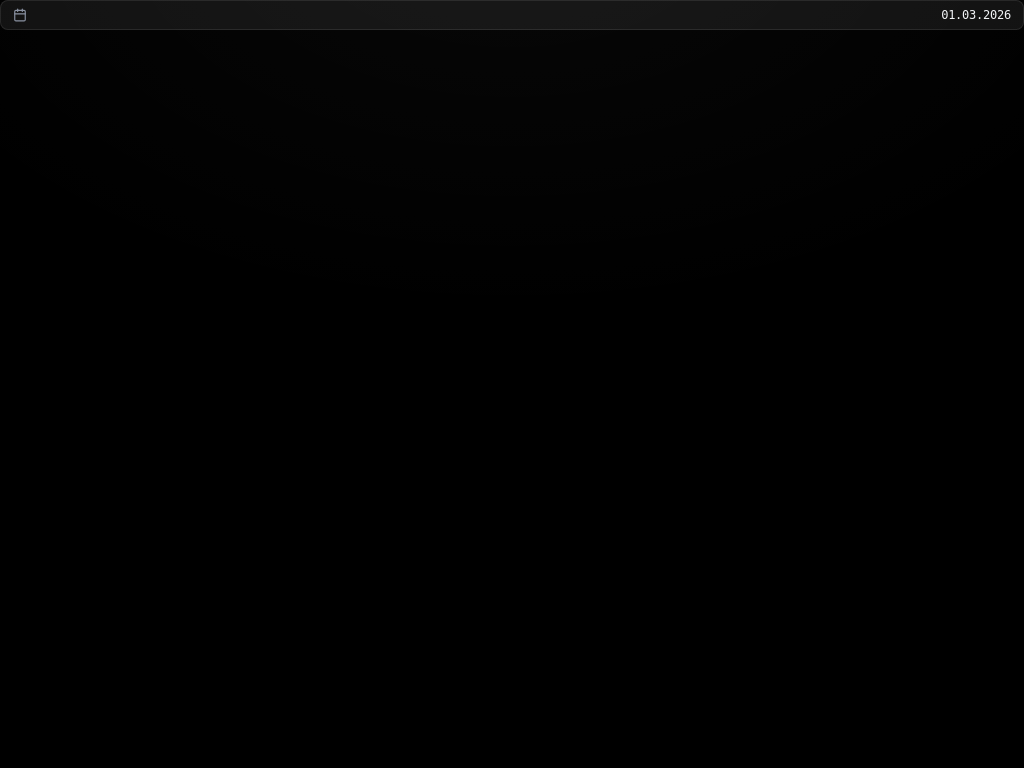
Test: DateField › selects a day as YYYY-MM-DD and can clear it
Later steps or results of the test are not shown.
Click the button with id "from": (976, 15) [0, 0, 1023, 30]
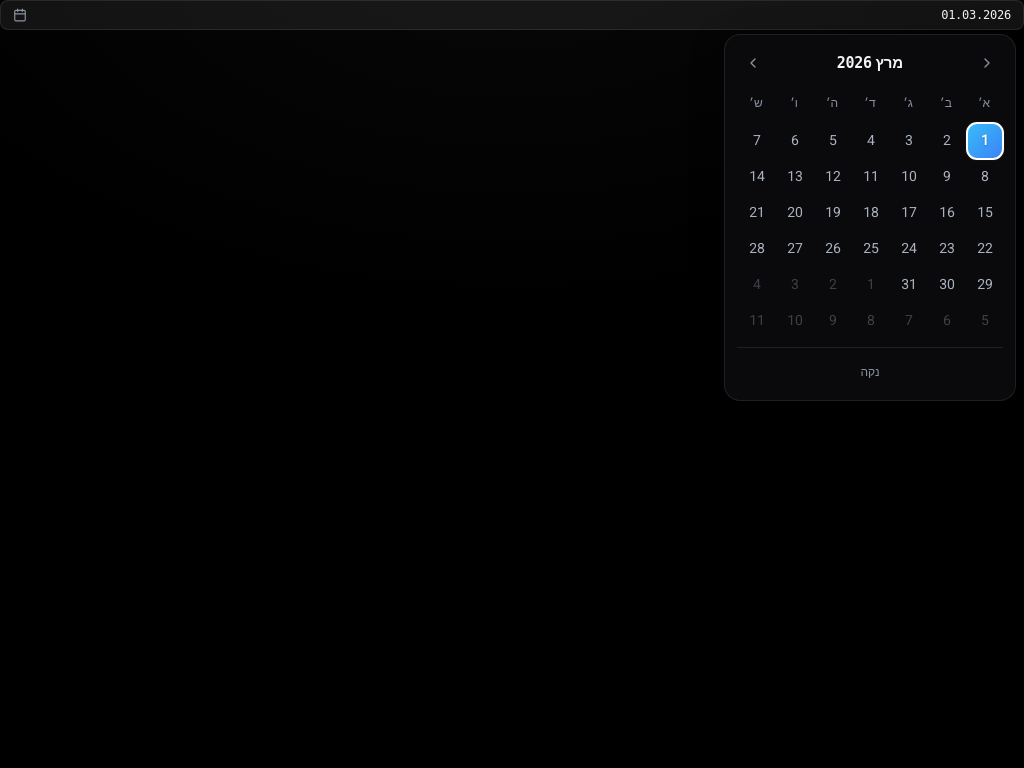
Result: the dialog is shown at [724, 34, 1016, 401]
Result: the dialog shows "מרץ" at [875, 52, 903, 74]
Result: the dialog shows "2026" at [837, 54, 872, 72]
Click the cell named "15 במרץ 2026": (985, 213) [967, 195, 1003, 231]
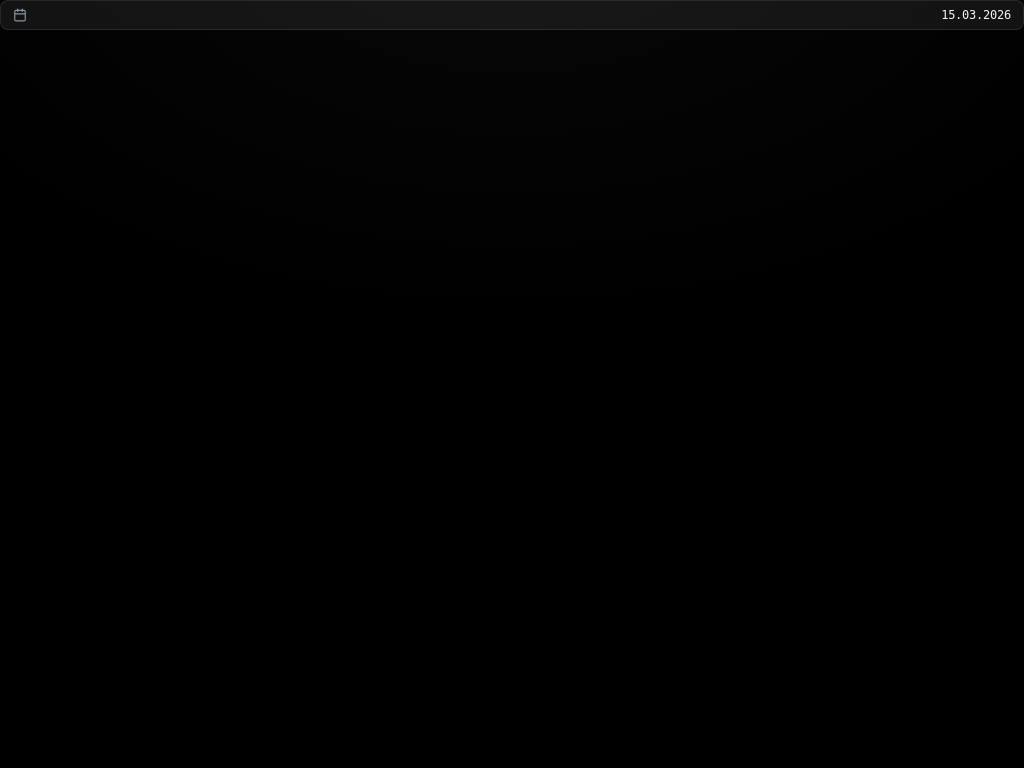
Result: the button "01.03.2026" is gone
